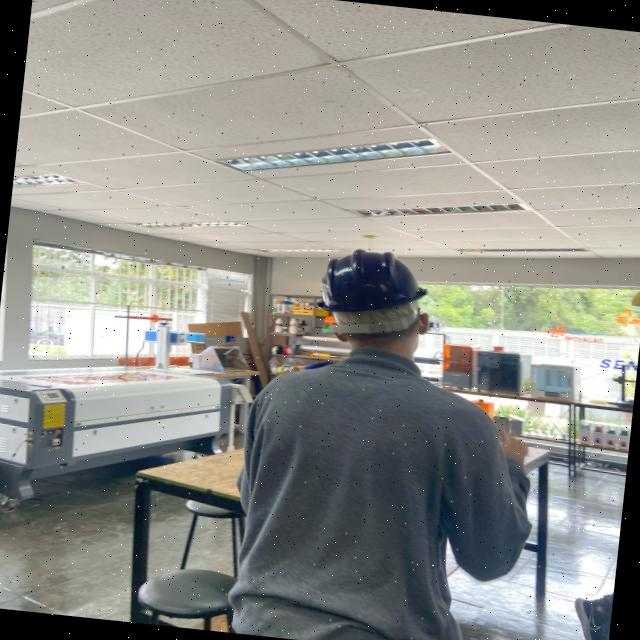CAPACETE: (308, 249, 432, 333)
SEM BOTA: (571, 593, 606, 640)
SEM LUVA: (490, 420, 533, 467)
